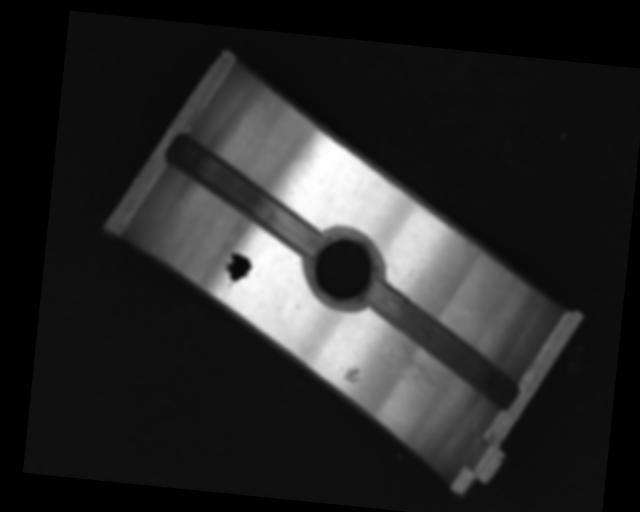blot: (221, 249, 254, 289)
bruise: (338, 364, 361, 384)
gap: (359, 279, 528, 410), (160, 134, 325, 257)
hole: (304, 229, 384, 308)
scratch: (381, 331, 462, 399)
